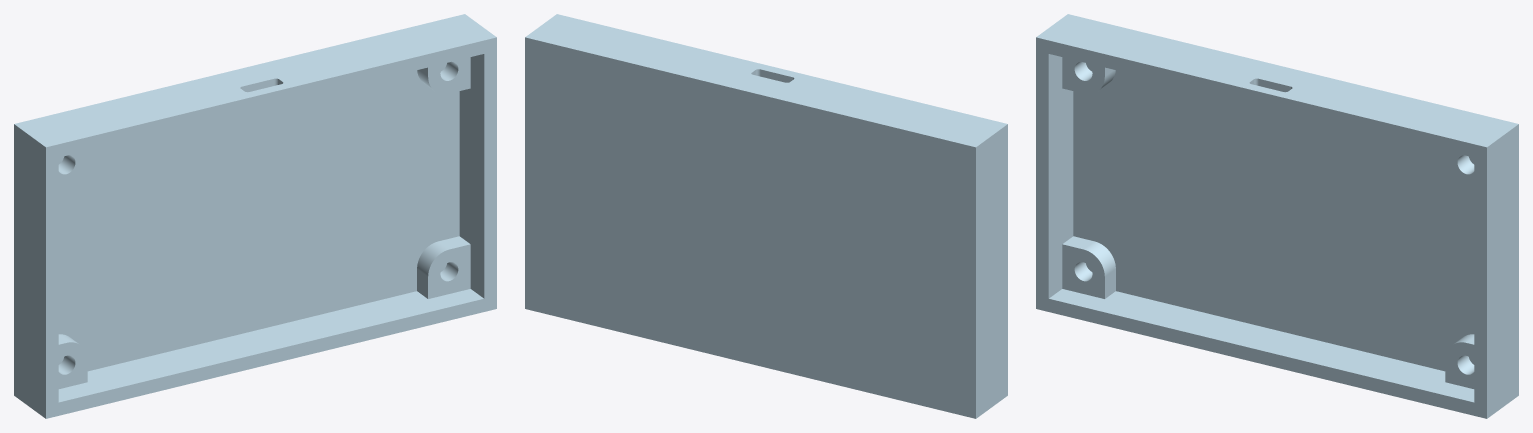
Rendered from standard_case.gltf.
3 renders of one model, left to right at view 1: azimuth 30°, elevation 25°; view 2: azimuth 150°, elevation 25°; view 3: azimuth 330°, elevation 25°, orthographic.
Parts seen in each view (by area): view 1: Case; view 2: Case; view 3: Case.
Part boxes in pixels (x1,y1,x2,y2): Case: (14,14,496,418); Case: (525,14,1007,418); Case: (1036,14,1518,418).
Bounding box in the file's own units: 0.106 × 0.061 × 0.013.
